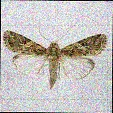Spodoptera litura: (2, 18, 108, 90)
